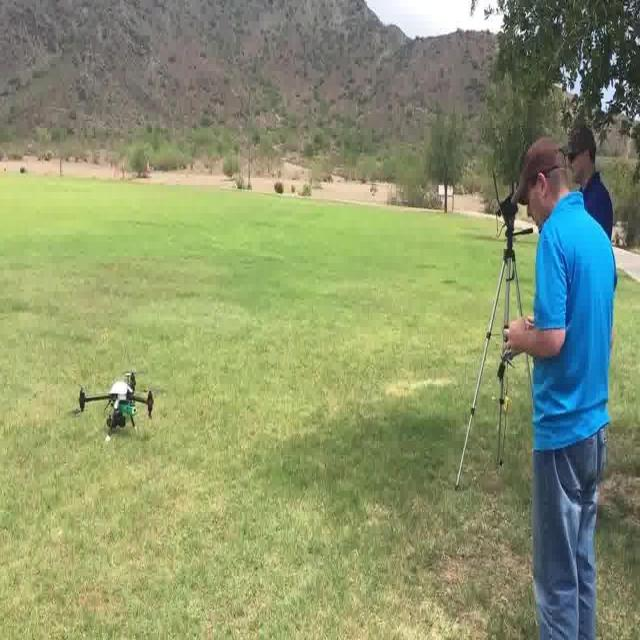drone: (73, 347, 169, 450)
